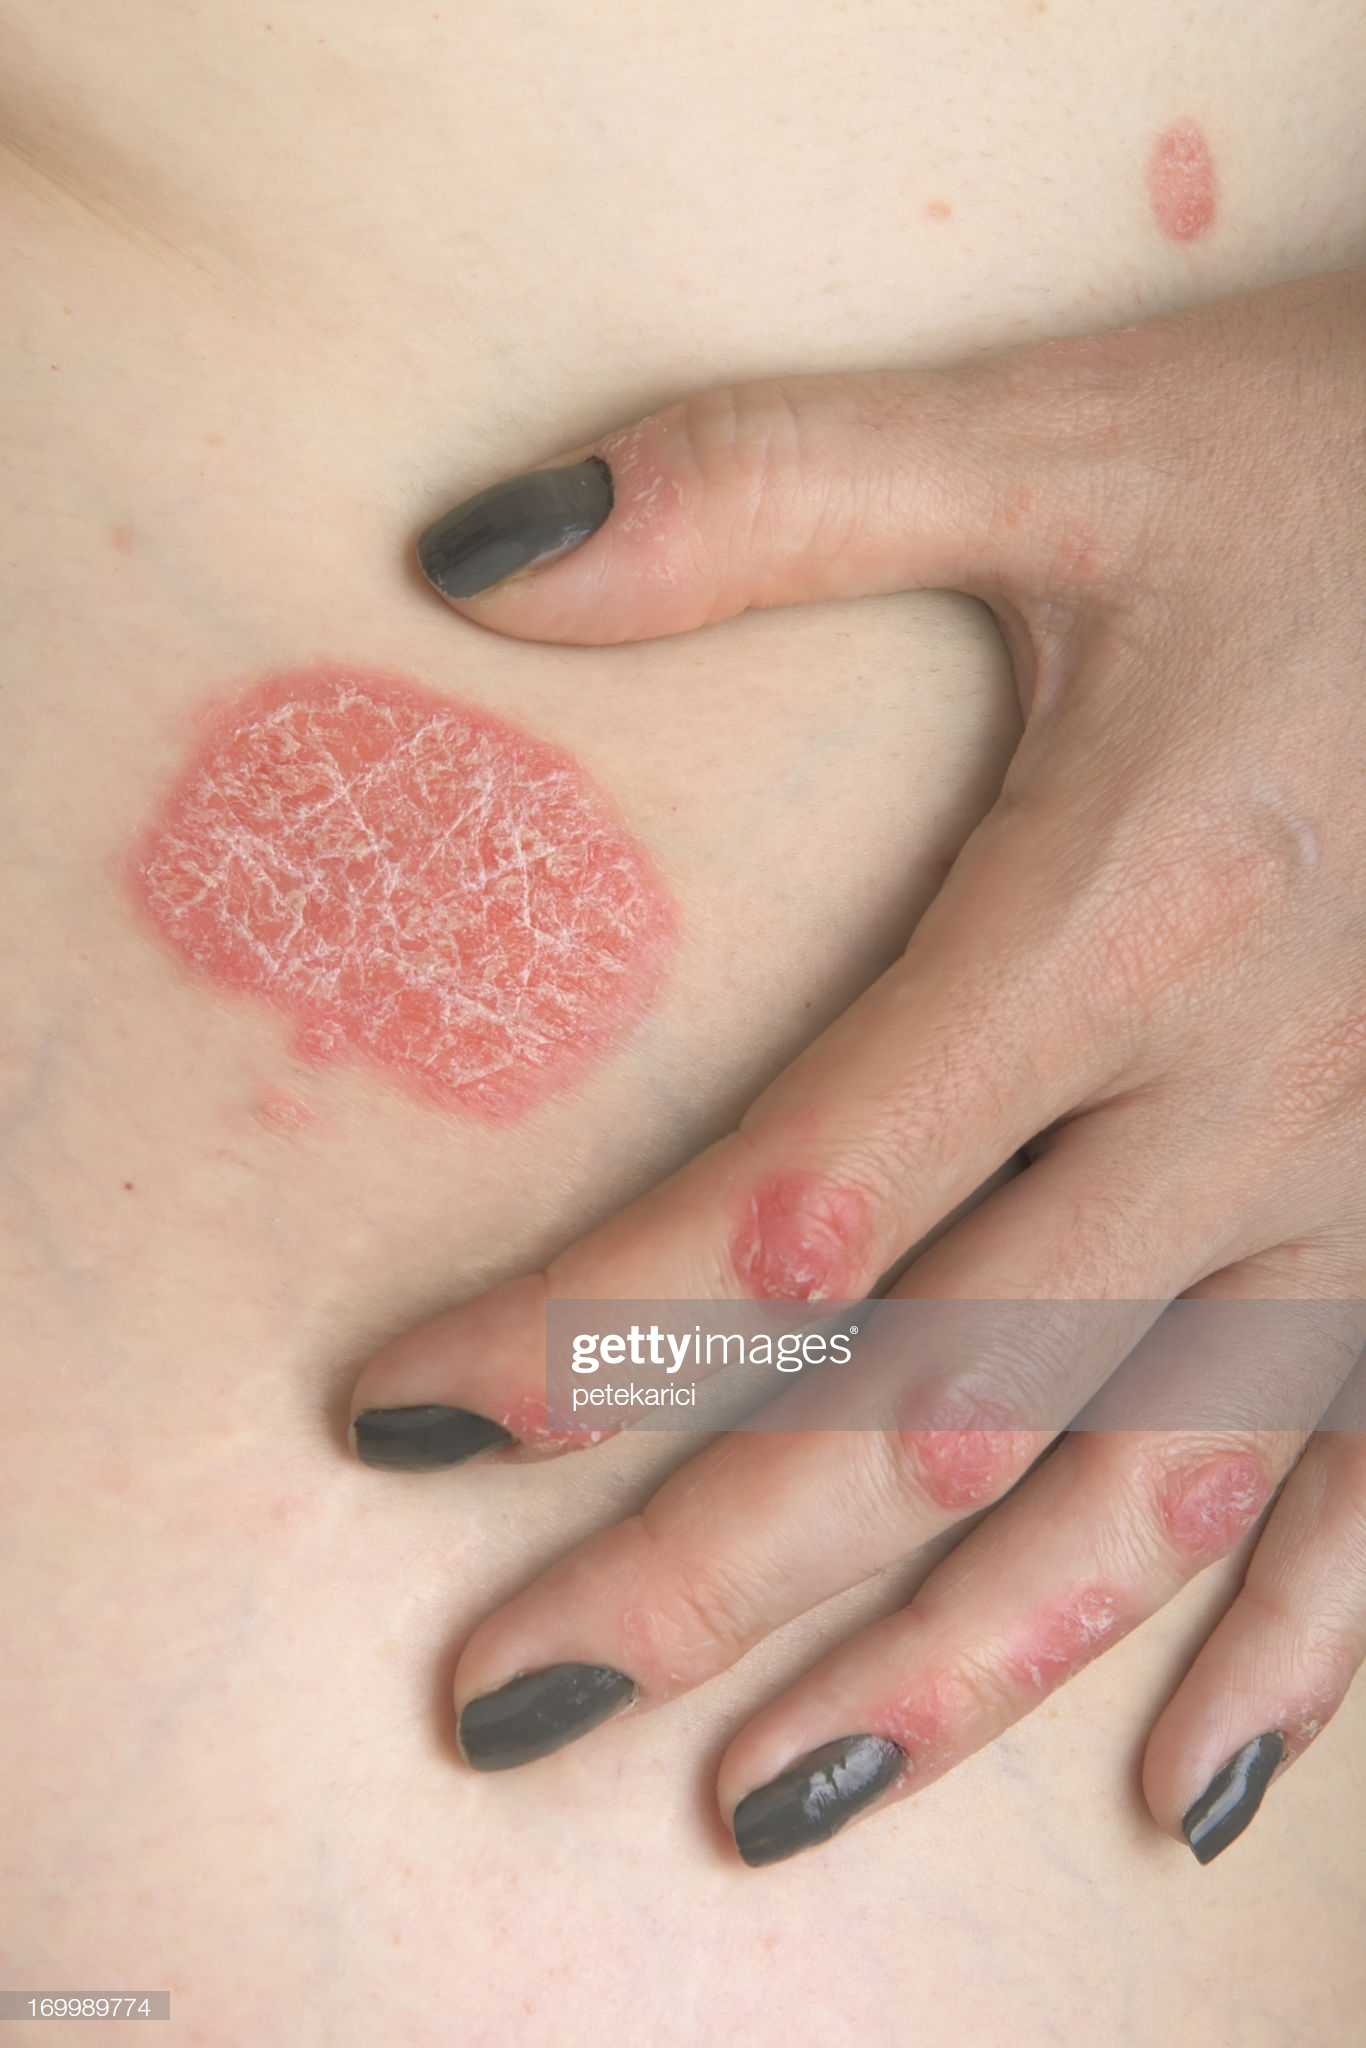Eczema: (156, 555, 845, 1263)
